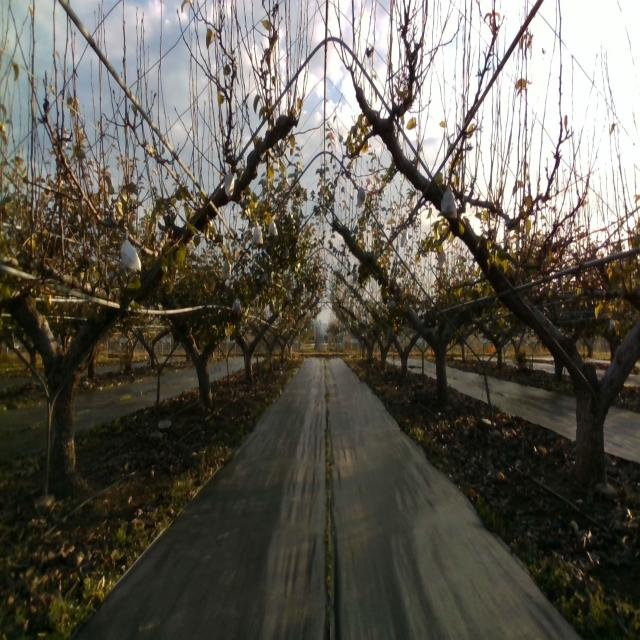pearbags: (120, 231, 141, 277), (438, 185, 458, 219), (224, 164, 235, 197), (251, 222, 264, 246), (356, 180, 366, 208)
